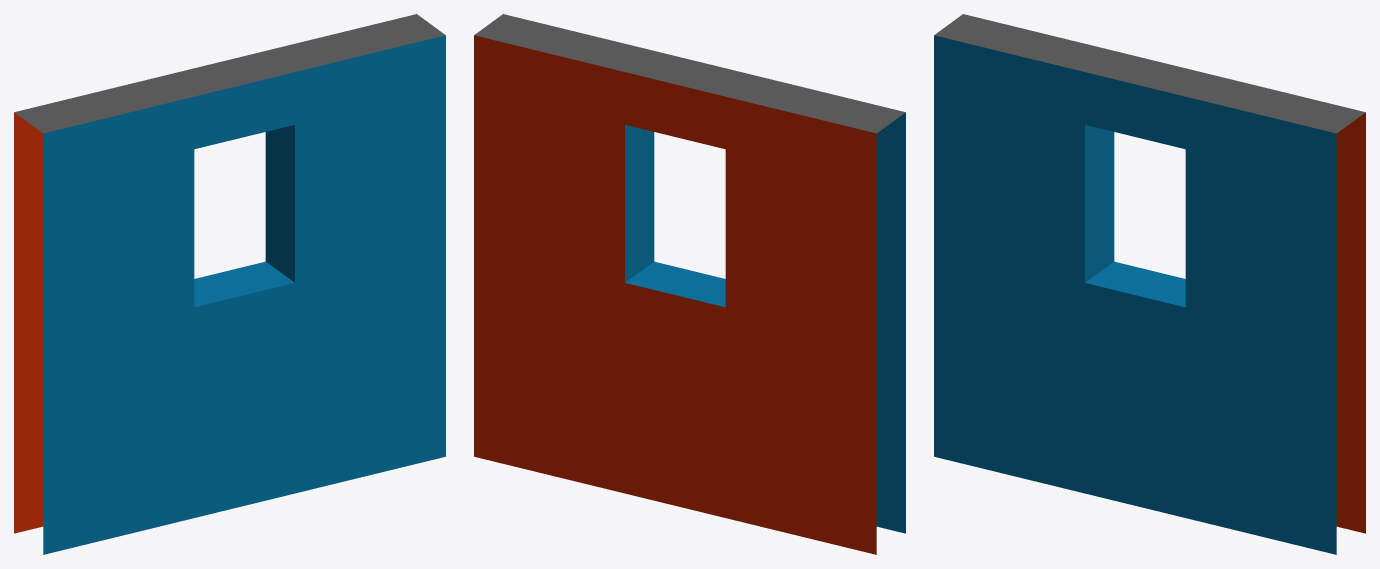
The model's file is Wall_Normal_Window_4x4.fbx.
3 views of the same model, side by side, from view 1: azimuth 30°, elevation 25°; view 2: azimuth 150°, elevation 25°; view 3: azimuth 330°, elevation 25° (orthographic).
Visible parts, largest first — view 1: Wall_Normal_Window_4x4; view 2: Wall_Normal_Window_4x4; view 3: Wall_Normal_Window_4x4.
Part boxes in pixels (box(x1,y1,x2,y2)): Wall_Normal_Window_4x4: box(14, 14, 445, 554); Wall_Normal_Window_4x4: box(474, 14, 905, 554); Wall_Normal_Window_4x4: box(934, 14, 1365, 554).
Size of the model in its own units: 4 by 4 by 0.5.
